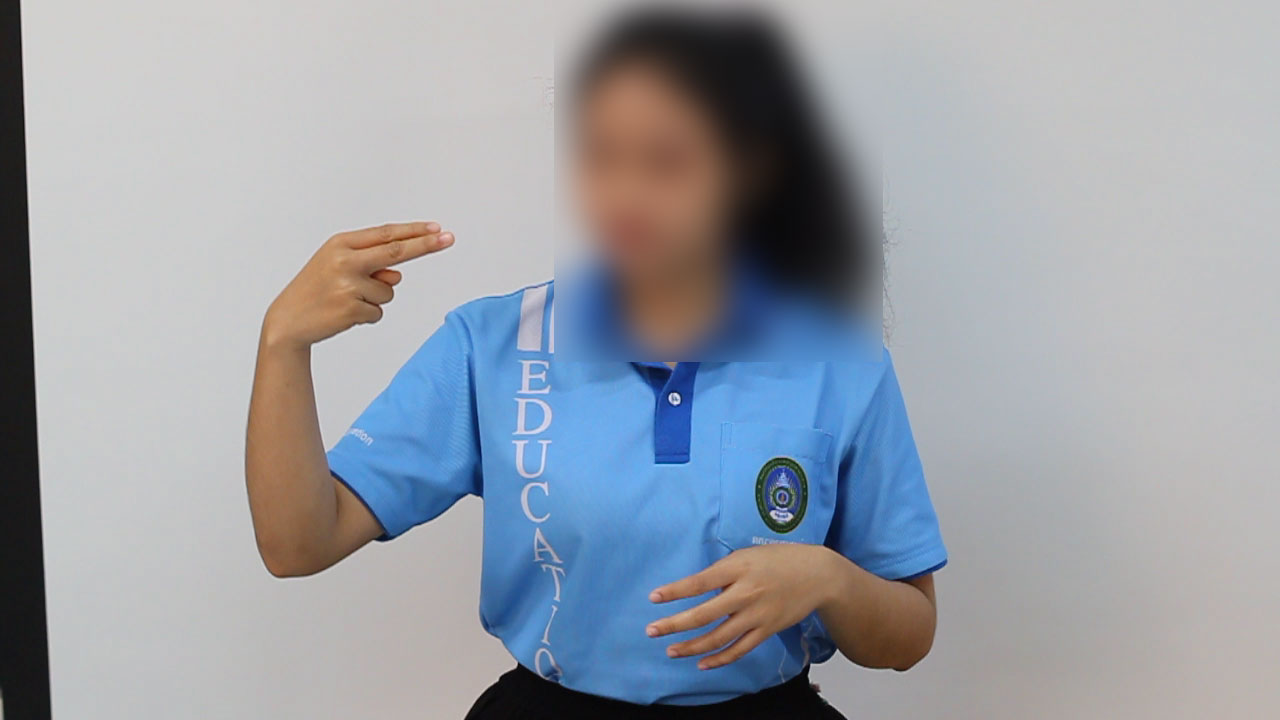hor: (240, 205, 470, 348)
